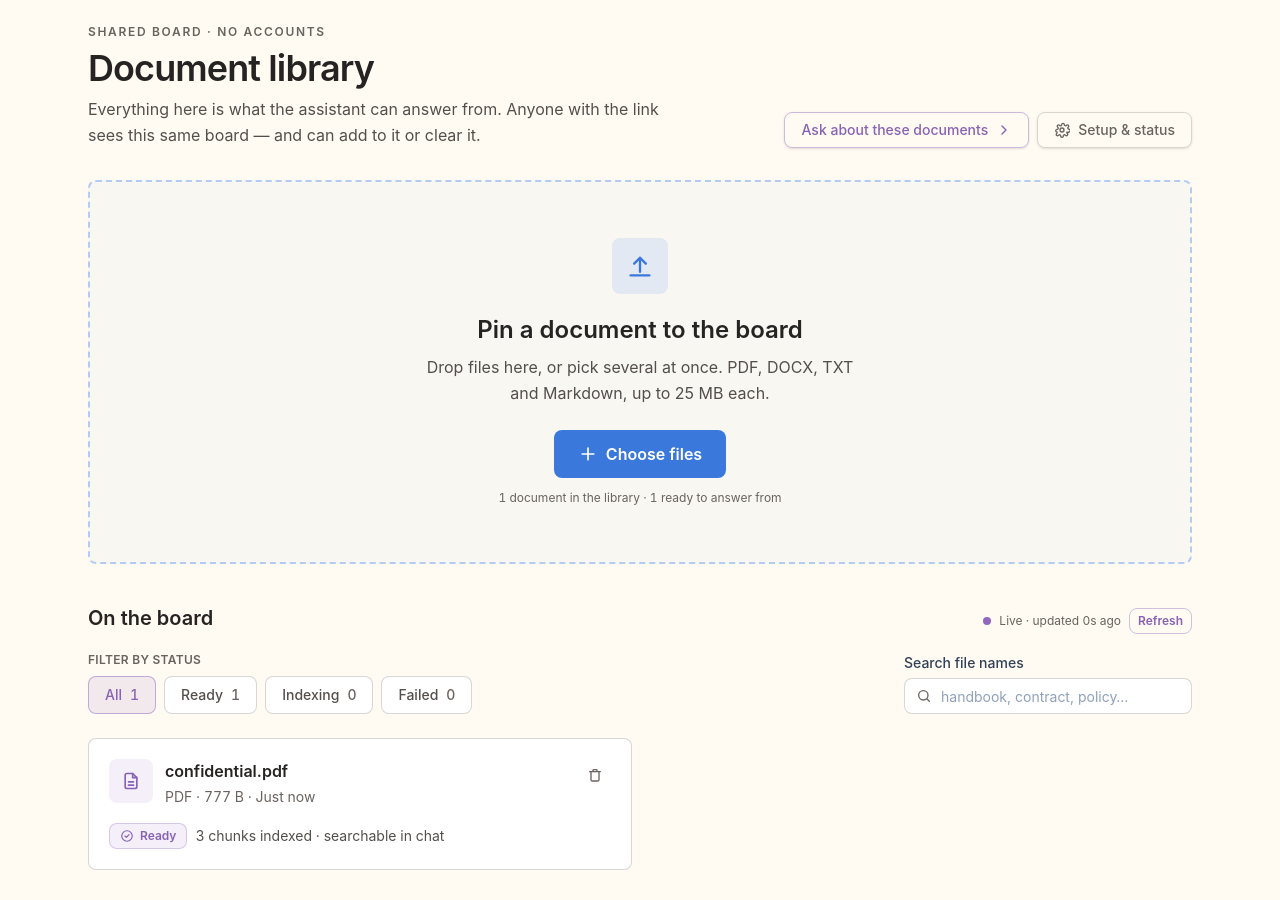
Test: Documents screen — indexing progress and failures › states the deletion is permanent with no undo, requires no sign-in, and shows no 'deleted by' attribution
Expected: the heading "confidential.pdf" is shown, [165,761,288,781]
What coordinates should you click on to do the following:
click the button named "delete confidential.pdf"
I would click on:
 (595, 775)
Its box is [579,759,611,791].
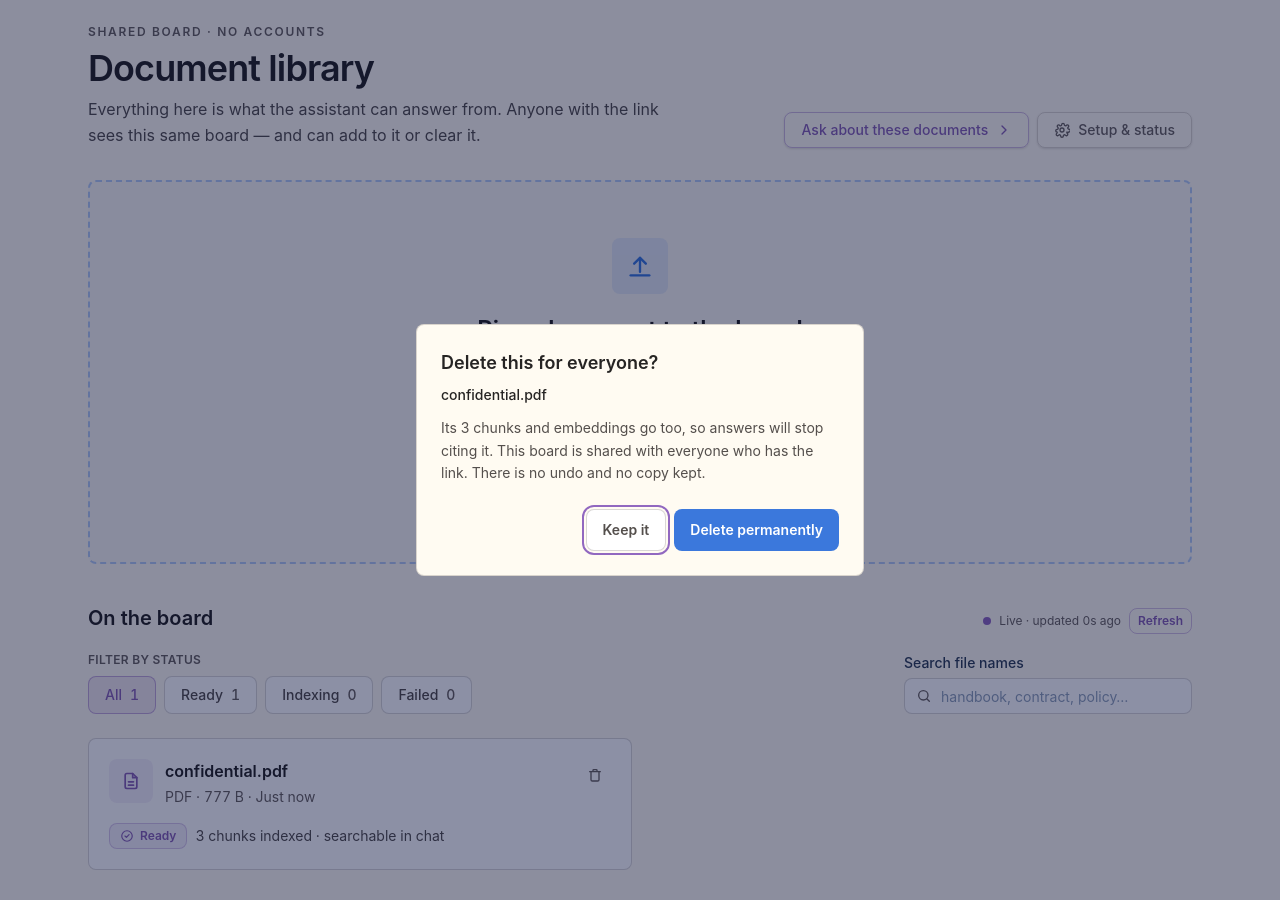
Expected: the text "no undo" is shown, [441,442,813,481]
What coordinates should you click on to do the following:
click the button "Delete permanently"
I would click on:
 (757, 530)
Its box is [674,509,839,551].
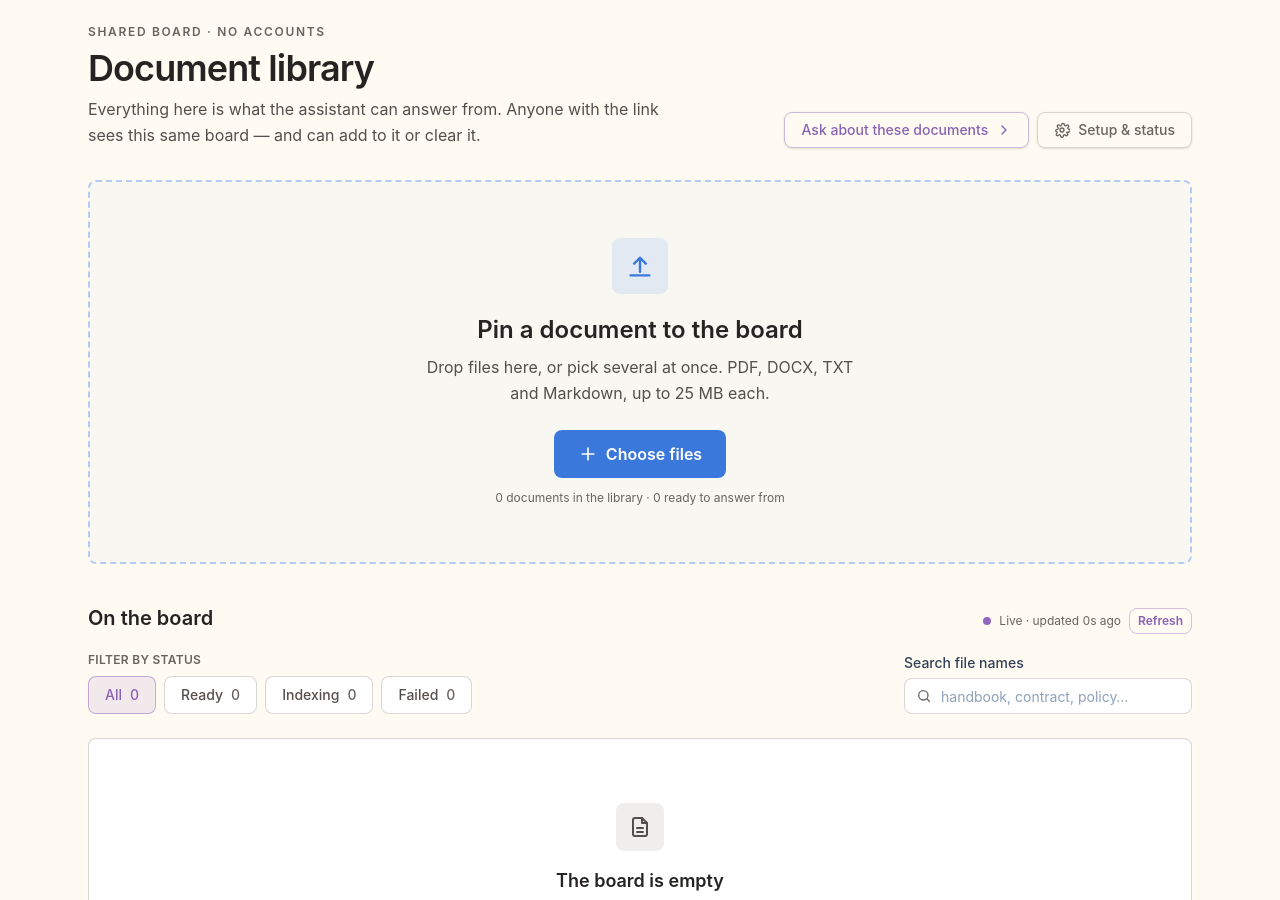
Expected: the heading "confidential.pdf" is gone
